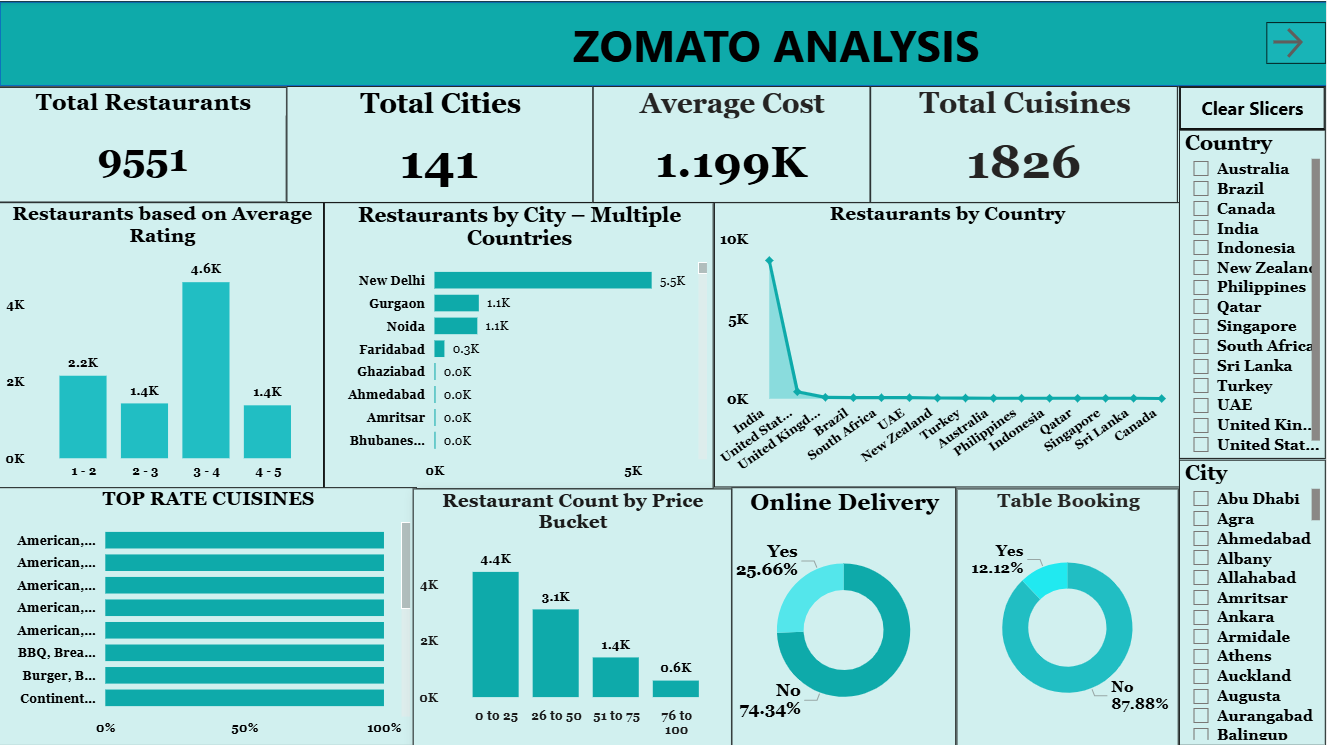

What the dashboard file says about the page in this screenshot:
{"tool":"powerbi","page":{"name":"DASHBOARD 1","canvas":[1280,720],"ordinal":0},"visuals":[{"type":"clusteredBarChart","fields":{"Category":["Restaurants.City"],"Y":["CountNonNull(Restaurants.RestaurantID)"]},"box":[313.9,194.4,375.8,276.5],"z":0},{"type":"shape","box":[0,0,1500.8,83.2],"z":2000},{"type":"card","title":"Total Restaurants","fields":{"Values":["Count(Restaurants.RestaurantID)","select"]},"box":[0,83.2,277.6,111.3],"z":3000},{"type":"clusteredColumnChart","title":"Restaurants based on Average Rating","fields":{"Category":["Restaurants.Rating Bucket"],"Y":["Restaurants.Restaurant Count"]},"box":[0,194.4,313.9,276.5],"z":4000},{"type":"hundredPercentStackedBarChart","title":"TOP RATE  CUISINES ","fields":{"Category":["Restaurants.Cuisines"],"Y":["Calendar_Table.avg rating"]},"box":[0,469.3,403,249.7],"z":5000},{"type":"actionButton","box":[1377.6,0,122.6,83.1],"z":6000},{"type":"columnChart","fields":{"Category":["Restaurants.Price Bucket"],"Y":["Restaurants.Restaurant Count"]},"box":[399.3,470.5,307.6,249.7],"z":7000},{"type":"card","title":"Total Cities","fields":{"Values":["Count(Restaurants.City)"]},"box":[277.6,81.9,295.9,112.5],"z":8000},{"type":"card","title":"Average Cost","fields":{"Values":["Avg(Restaurants.Average_Cost_for_two)"]},"box":[573.5,81.9,267.8,112.5],"z":9000},{"type":"card","title":"Total Cuisines","fields":{"Values":["Count(Restaurants.Cuisines)"]},"box":[841.3,81.9,297.1,112.5],"z":10000},{"type":"donutChart","title":"Table Booking","fields":{"Y":["Restaurants.Total Restaurants"],"Category":["Restaurants.Has_Table_booking"]},"box":[924.1,470.5,214.7,248.5],"z":11000},{"type":"donutChart","title":"Online  Delivery","fields":{"Category":["Restaurants.Has_Online_delivery"],"Y":["CountNonNull(Restaurants.RestaurantID)"]},"box":[707,469.3,217.2,250.9],"z":12000},{"type":"areaChart","title":"Restaurants by Country","fields":{"Category":["countries.Countryname"],"Y":["CountNonNull(Restaurants.RestaurantID)"]},"box":[689.8,194.4,449.3,275],"z":13000},{"type":"slicer","title":"Country","fields":{"Values":["countries.Countryname"]},"box":[1138.5,124.7,141.8,317.9],"z":15000},{"type":"slicer","title":"City","fields":{"Values":["Restaurants.City"]},"box":[1138.5,442.7,141.8,276.4],"z":16000},{"type":"actionButton","box":[1222.8,20.8,57.5,40.4],"z":17000},{"type":"actionButton","box":[1138.5,81.9,141.8,42.8],"z":18000}]}

Visuals, with their boxes in screenshot pixels (x1, y1, x2, y2), scaled from the page's 1280x720 canvas onto the 1327x745 screenshot:
clusteredBarChart - Restaurants.City x CountNonNull(Restaurants.RestaurantID): box=[325, 201, 715, 487]
shape: box=[0, 0, 1326, 86]
"Total Restaurants" card: box=[0, 86, 288, 201]
"Restaurants based on Average Rating" clusteredColumnChart: box=[0, 201, 325, 487]
"TOP RATE  CUISINES " hundredPercentStackedBarChart: box=[0, 486, 418, 744]
columnChart - Restaurants.Price Bucket x Restaurants.Restaurant Count: box=[414, 487, 733, 744]
"Total Cities" card: box=[288, 85, 595, 201]
"Average Cost" card: box=[595, 85, 872, 201]
"Total Cuisines" card: box=[872, 85, 1180, 201]
"Table Booking" donutChart: box=[958, 487, 1181, 744]
"Online  Delivery" donutChart: box=[733, 486, 958, 744]
"Restaurants by Country" areaChart: box=[715, 201, 1181, 486]
"Country" slicer: box=[1180, 129, 1326, 458]
"City" slicer: box=[1180, 458, 1326, 744]
actionButton: box=[1268, 22, 1326, 63]
actionButton: box=[1180, 85, 1326, 129]
